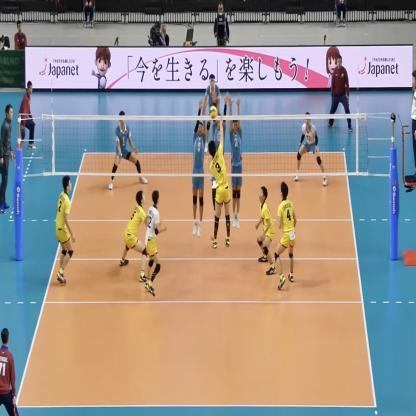spike: (204, 105, 232, 254)
